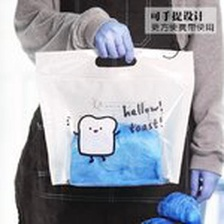snack: (25, 41, 203, 193)
